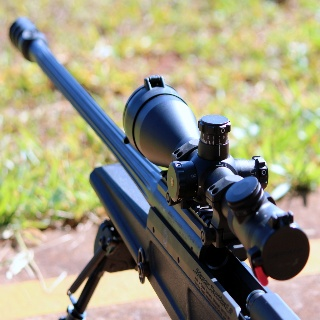rifle: (9, 15, 312, 320)
